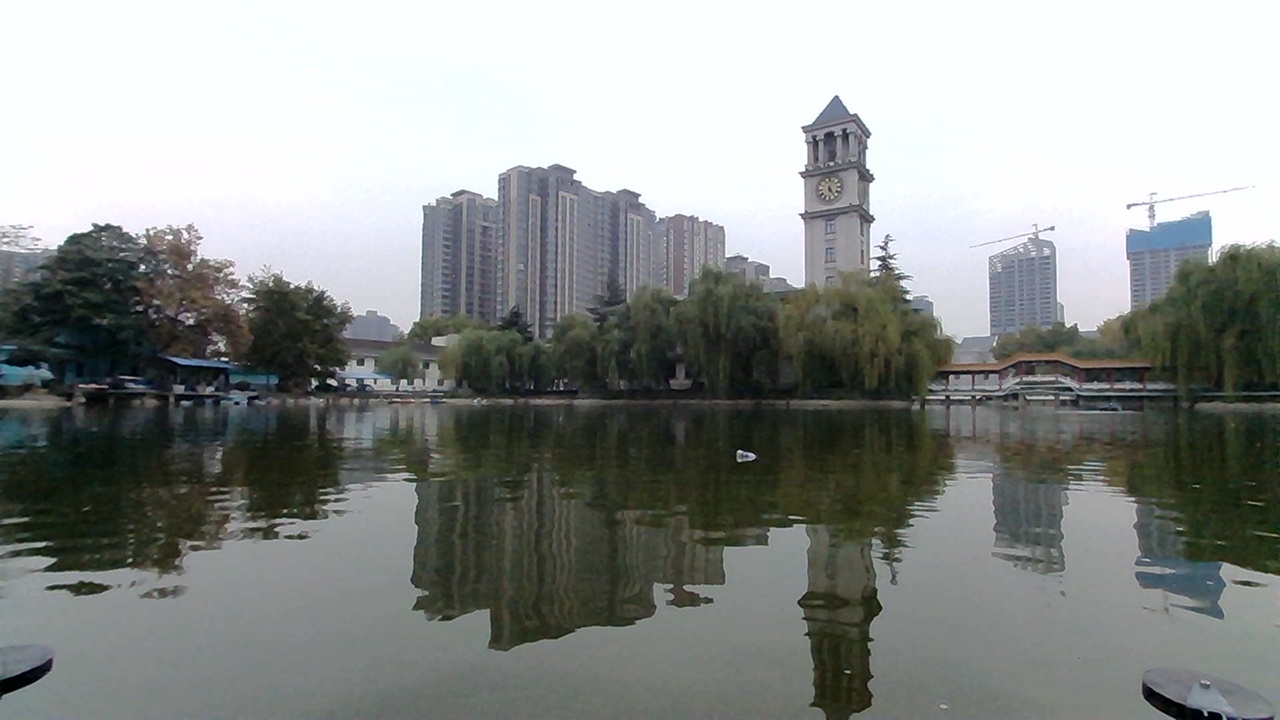bottle: (727, 438, 766, 468)
